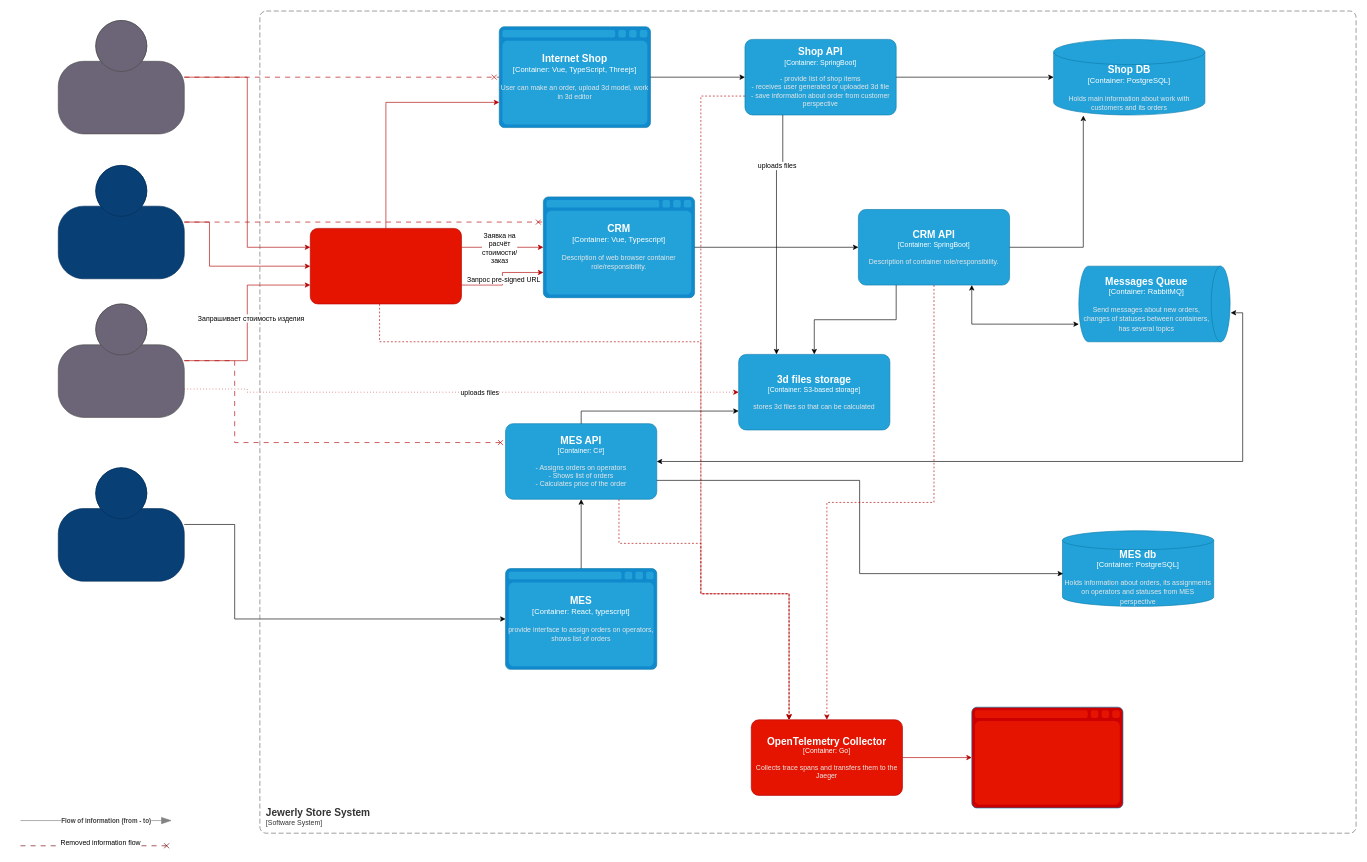
Some shapes in this 1367 by 862 pixel diagram are drawn without their labels. The box of each missing label's shape, as (x1, y1, x2, y2) in pixels:
API Gateway [Container: Kong]: (310, 228, 461, 304)
API user [Person] Description of external person.: (58, 303, 184, 417)
Customer [Person] Description of external person.: (58, 20, 184, 134)
Jaeger [Container: Go, React] Collects tracing data, shows request traces: (971, 707, 1123, 808)
Operator [Person] Takes order in work, manufactures jewerly: (58, 467, 184, 581)
Seller [Person] Operates with order, confirms manufacturing for the user: (58, 165, 184, 279)
